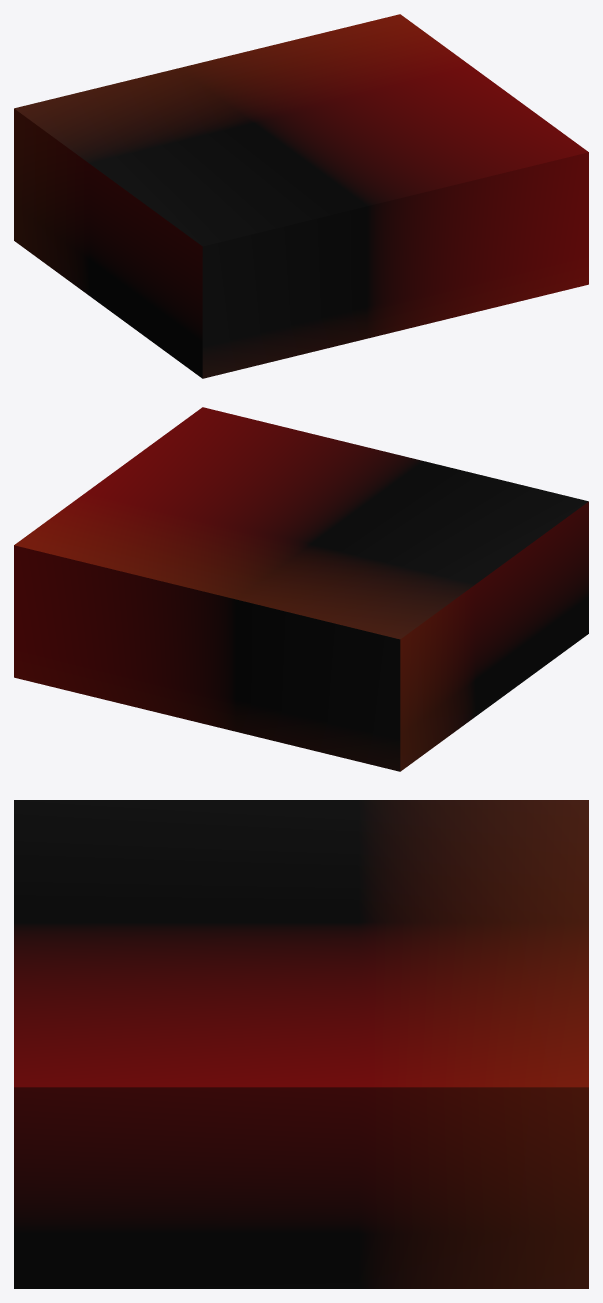
Rendered from RetroGarage.fbx.
The picture shows the model from 3 angles, top to bottom: view 1: azimuth 30°, elevation 25°; view 2: azimuth 150°, elevation 25°; view 3: azimuth 270°, elevation 25°; orthographic projection. The views are drawn at different scales.
Parts seen in each view (by area): view 1: LightBlocker; view 2: LightBlocker; view 3: LightBlocker.
Part boxes in pixels (x1,y1,x2,y2): LightBlocker: [14, 14, 588, 378]; LightBlocker: [14, 407, 588, 771]; LightBlocker: [14, 800, 588, 1288].
Bounding box in the file's own units: 38.96 × 12.75 × 32.96.
